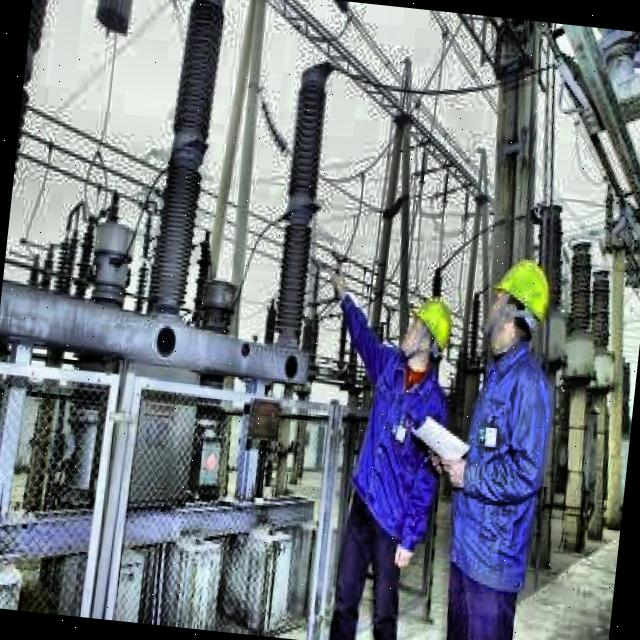helmet: (478, 253, 556, 358), (402, 290, 459, 368)
